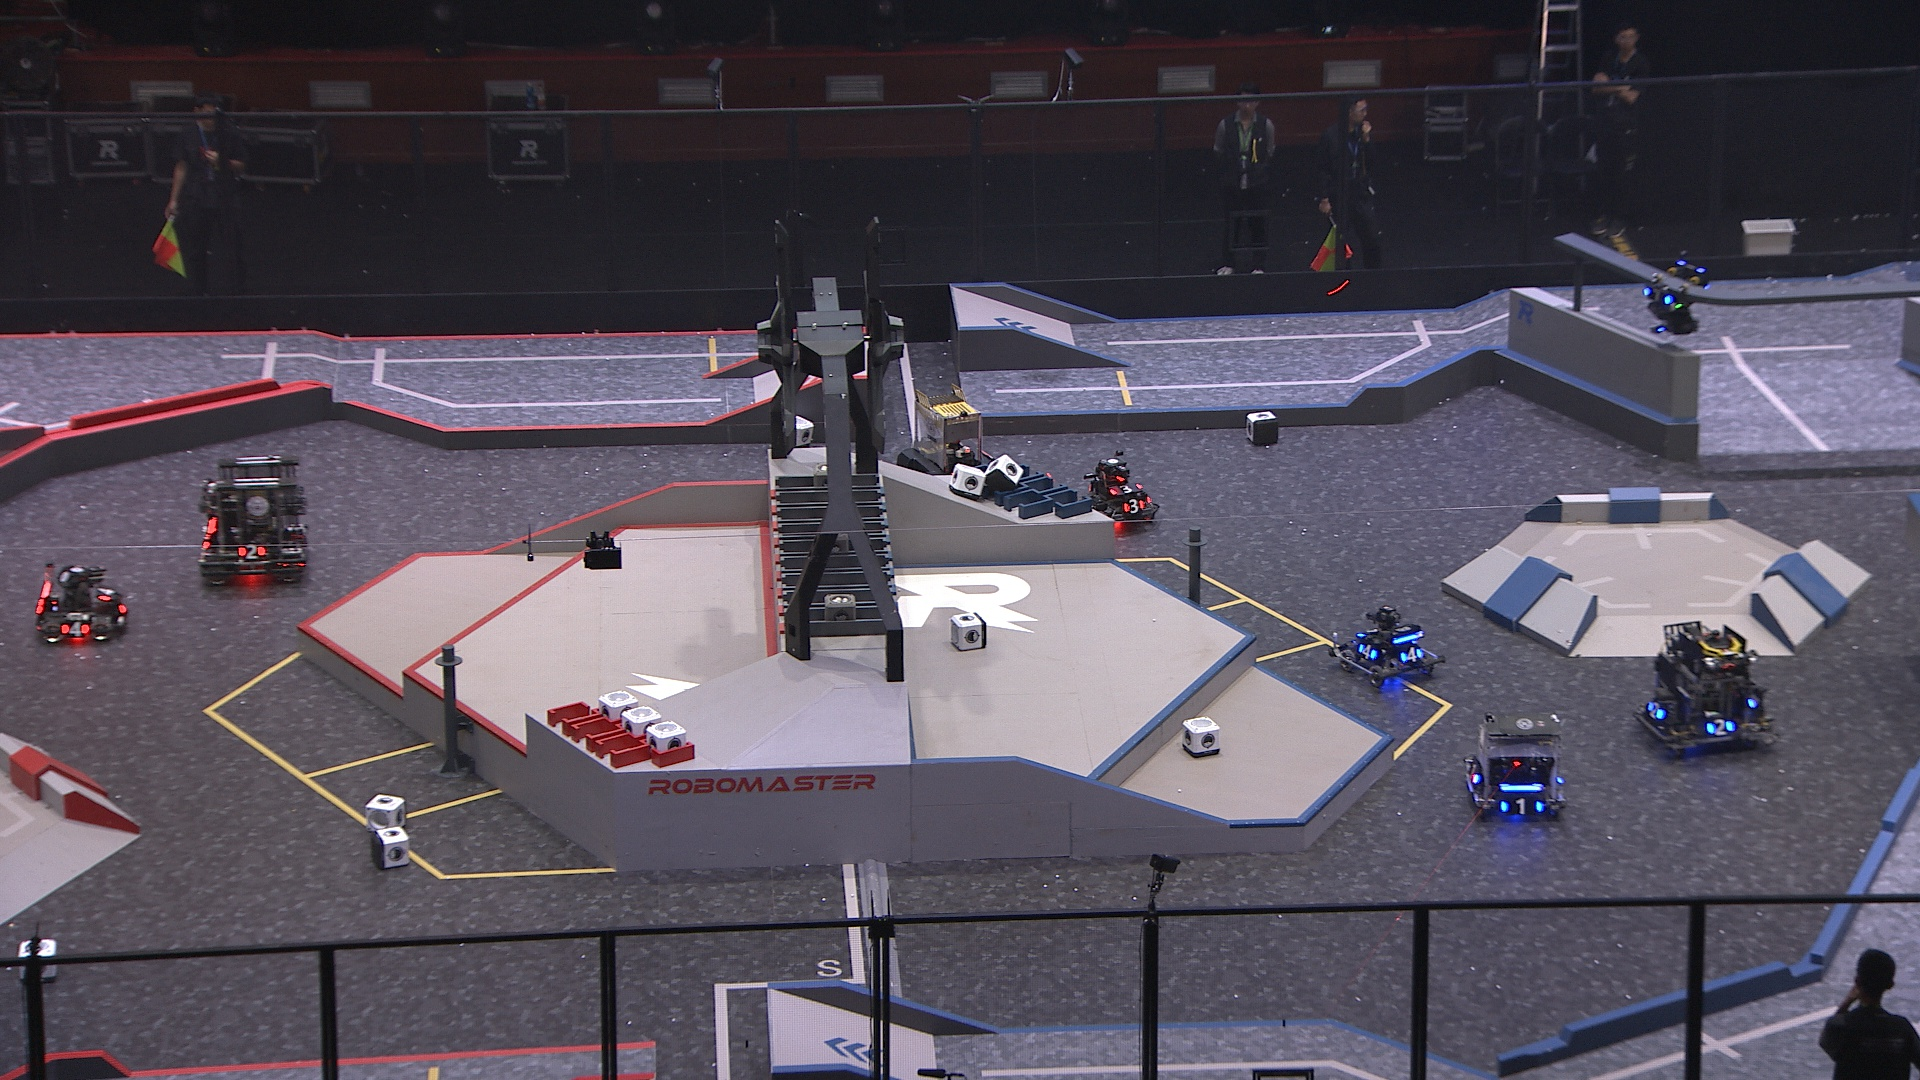armor: (1501, 796, 1544, 816), (1705, 717, 1735, 740), (1462, 760, 1481, 793), (61, 622, 91, 641), (237, 545, 266, 562), (1643, 287, 1669, 305), (98, 583, 116, 607), (1396, 646, 1423, 662), (1356, 642, 1377, 661), (1646, 700, 1665, 719), (1122, 498, 1145, 514), (1109, 483, 1138, 495), (1358, 624, 1378, 636)
car: (1640, 616, 1779, 754), (196, 455, 311, 585), (1460, 708, 1571, 823), (894, 386, 997, 496), (1329, 604, 1447, 692), (30, 562, 131, 645), (1077, 452, 1156, 531)
watcher: (1640, 261, 1709, 339)
